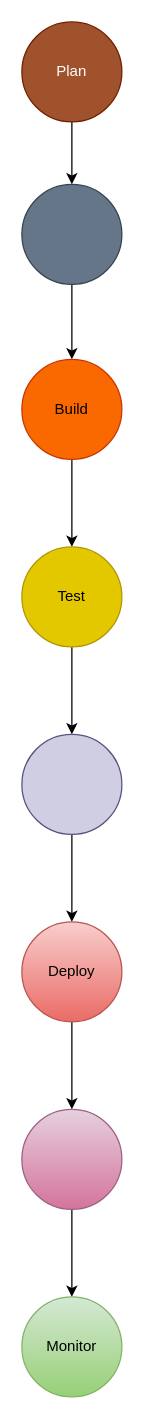
This 144x1419 diagram has some shape labels left out. The box of each missing label's shape, as (x1, y1, x2, y2) in pixels:
Develop: (21, 183, 122, 284)
Operate: (21, 1108, 122, 1209)
Relesse: (21, 733, 122, 834)
